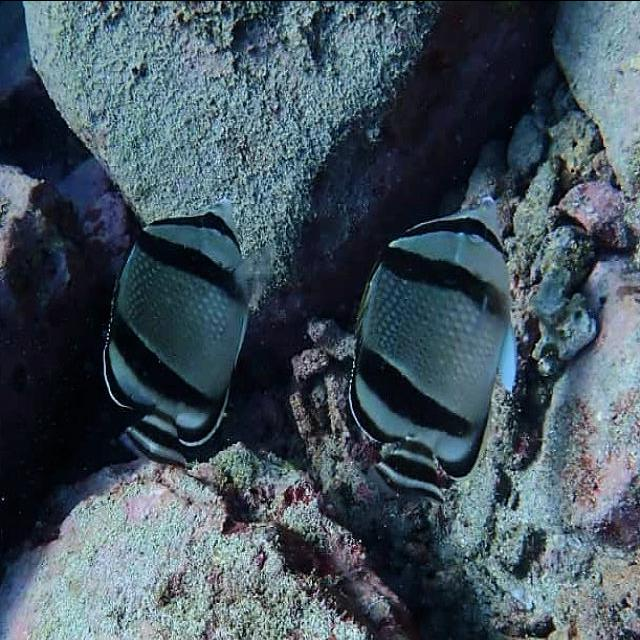ButterflyFish: (346, 189, 521, 495), (93, 190, 248, 472)
